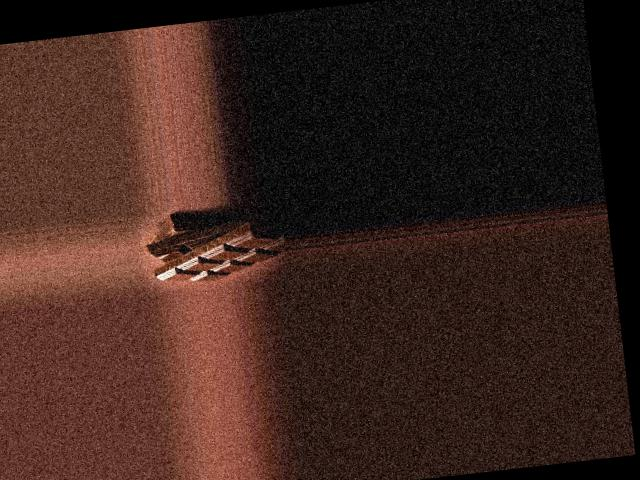chocolate: (145, 210, 284, 286)
